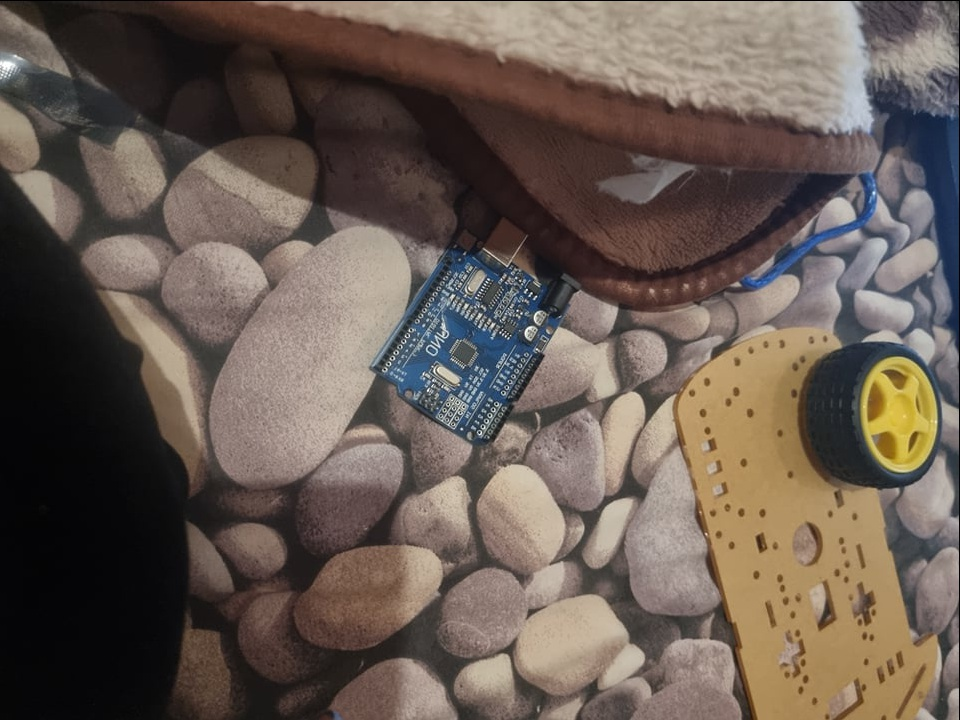UNO R3: (367, 217, 584, 443)
